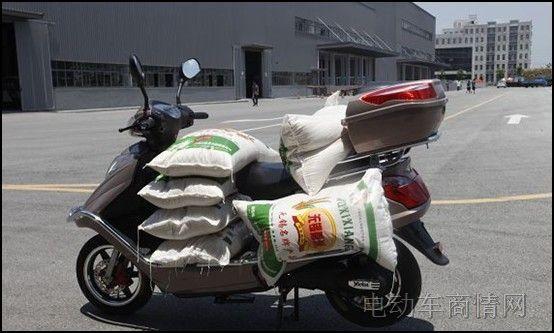电动车: (64, 50, 465, 320)
